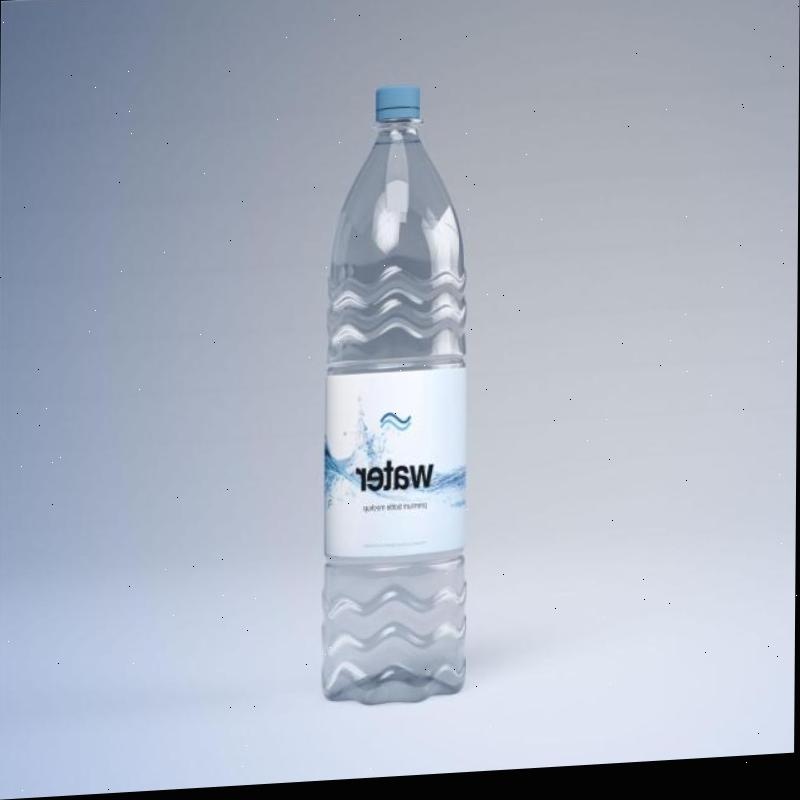botella: (319, 87, 466, 708)
